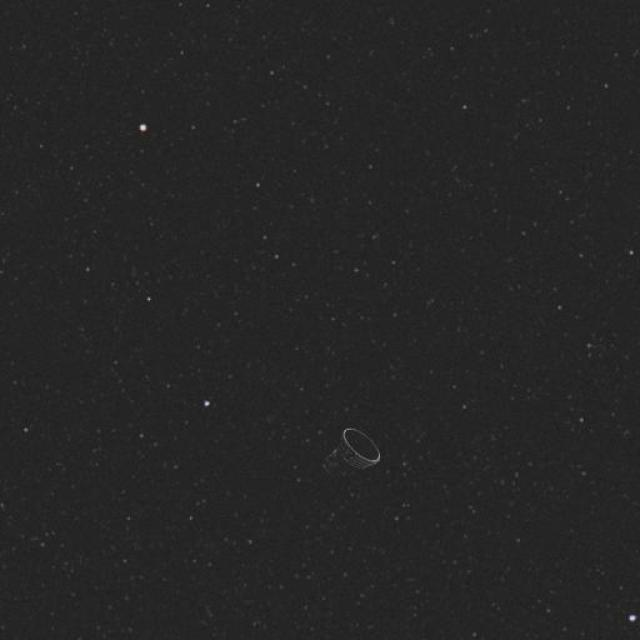debris: (316, 425, 394, 497)
